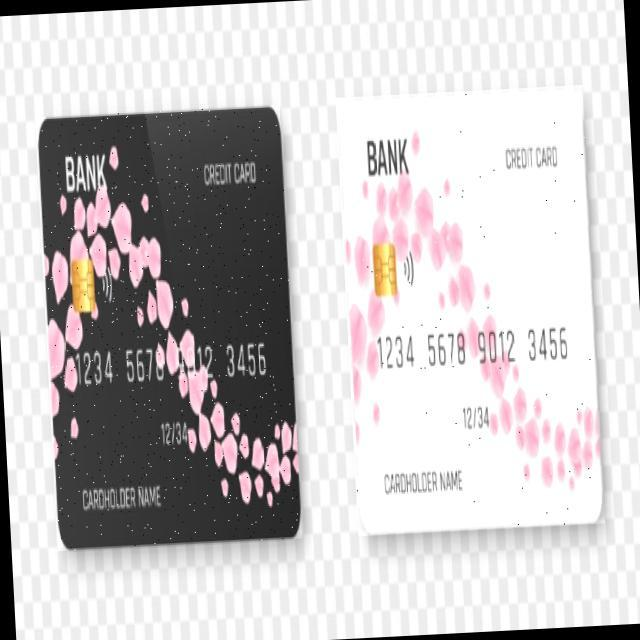payment_card: (337, 84, 603, 535), (38, 106, 300, 549)
